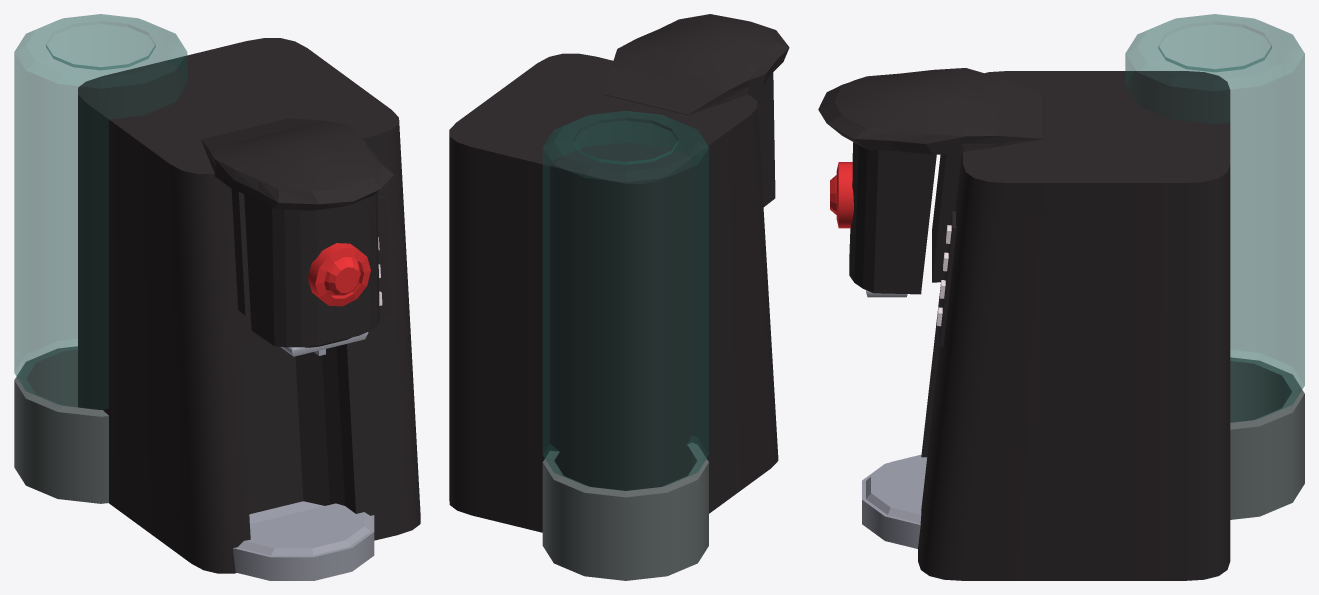
Rendered from SM_coffee_machine.fbx.
3 renders of one model, left to right at view 1: azimuth 30°, elevation 25°; view 2: azimuth 150°, elevation 25°; view 3: azimuth 270°, elevation 25°, orthographic. The views are drawn at different scales.
Parts seen in each view (by area): view 1: coffee_machine; view 2: coffee_machine; view 3: coffee_machine.
Part boxes in pixels (<box>): coffee_machine: <box>14,14,420,580</box>; coffee_machine: <box>449,14,789,580</box>; coffee_machine: <box>818,14,1304,580</box>.
Size of the model in its own units: 48.74 by 74.14 by 74.38.
